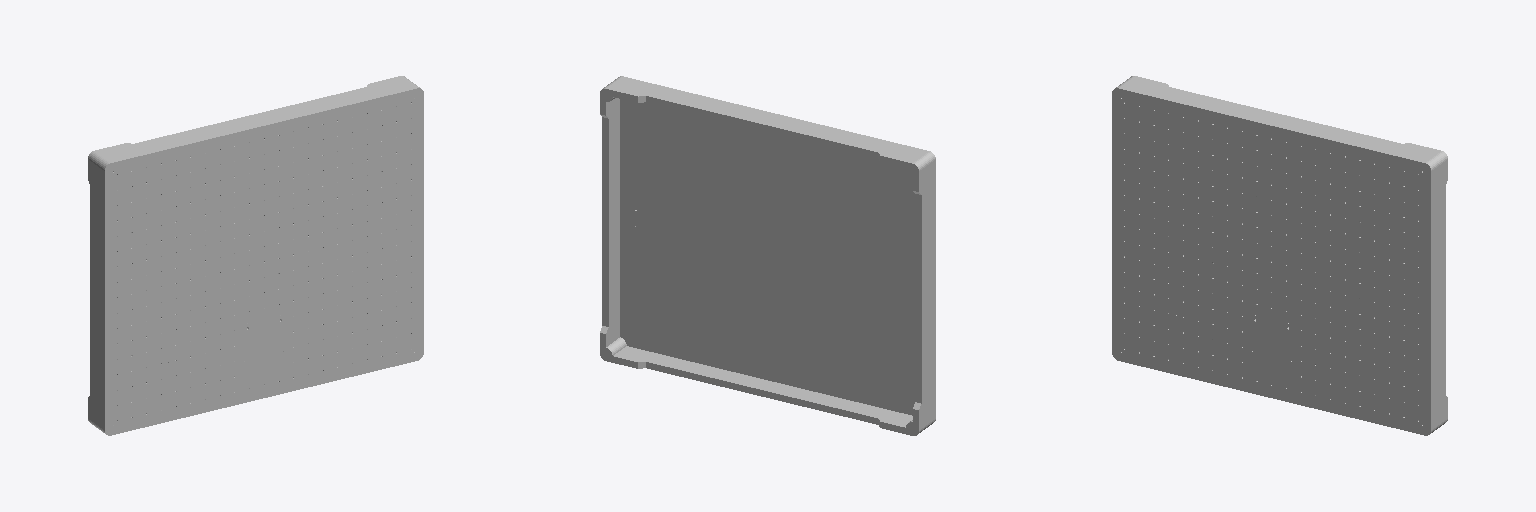
The model's file is deck.obj.
3 views of the same model, side by side, from view 1: azimuth 30°, elevation 25°; view 2: azimuth 150°, elevation 25°; view 3: azimuth 330°, elevation 25° (orthographic).
Bounding box in the file's own units: 0.814 × 0.664 × 0.077.